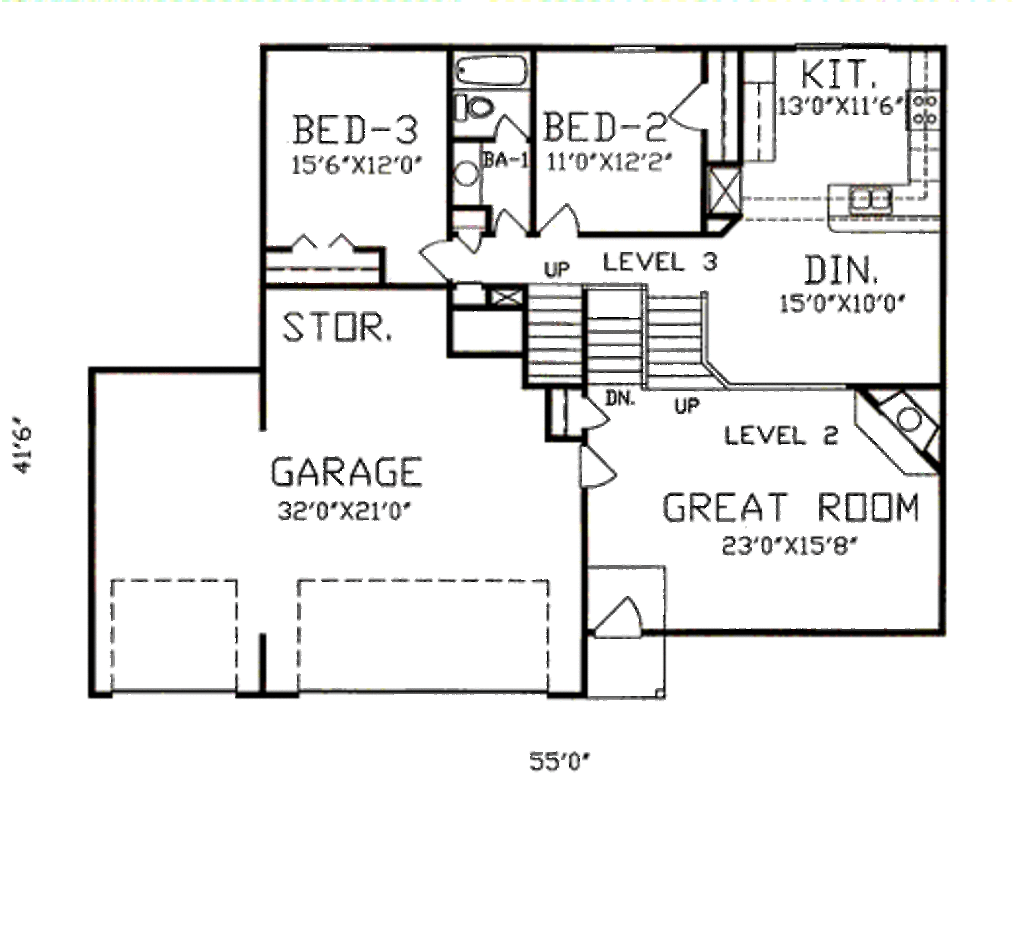door: (523, 194, 591, 246), (663, 74, 711, 132), (579, 598, 645, 640), (574, 445, 626, 493), (563, 390, 614, 432), (417, 227, 453, 278), (488, 203, 530, 238), (446, 225, 491, 256), (491, 113, 529, 143)
large_sink: (446, 91, 503, 130)
small_sink: (452, 151, 481, 200)
stairs: (524, 280, 726, 394)
tub: (446, 45, 526, 88)
twin_sink: (836, 181, 905, 233)
